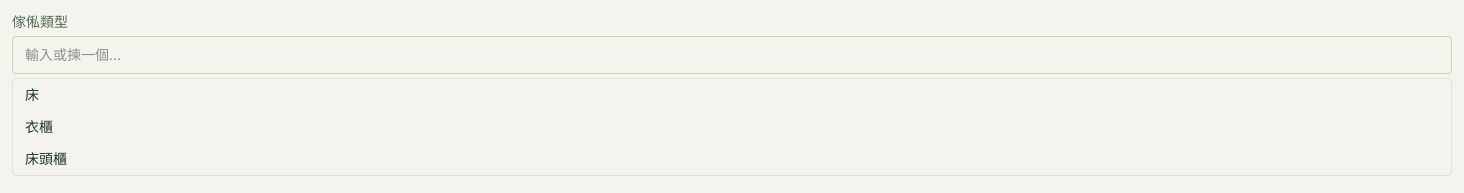
Scenario: SearchableSelect › submits a new name when the typed text matches nothing
The width and height of the screenshot is (1464, 193).
Type "酒櫃" into the field labelled "傢俬類型" at (732, 55), box [12,36,1452,74]
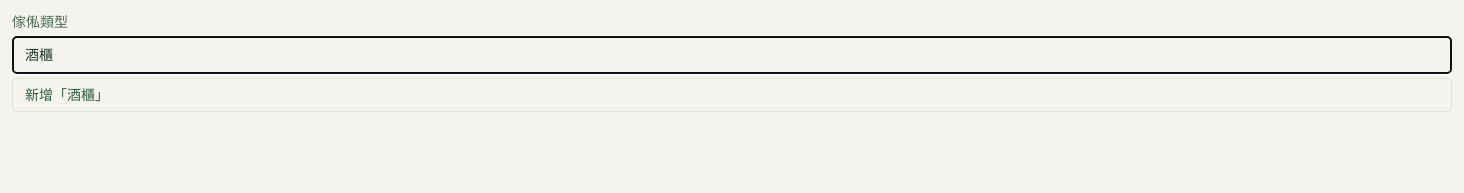
Expected: the list item "新增「酒櫃」" is shown, [25,86,109,104]
